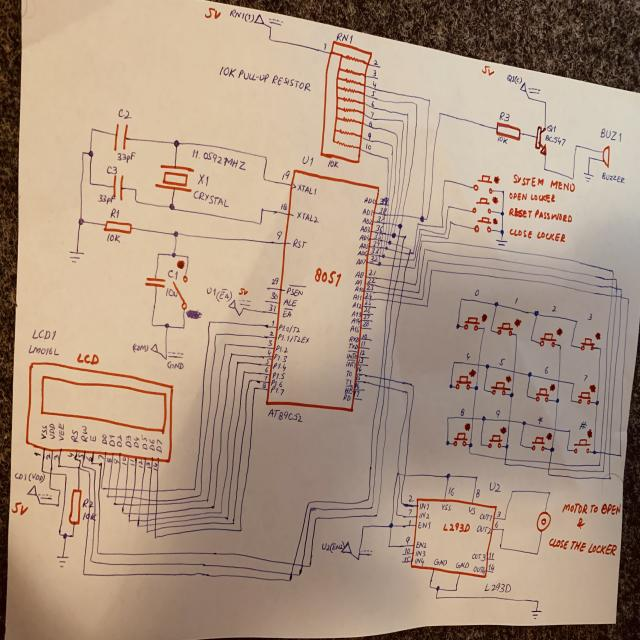capacitor: (112, 122, 129, 151), (112, 174, 124, 201), (144, 275, 166, 289)
crossover: (470, 415, 476, 422), (507, 417, 512, 425), (476, 361, 481, 368), (553, 426, 557, 434), (291, 561, 296, 567), (289, 571, 294, 577), (512, 368, 516, 375), (399, 293, 404, 298), (557, 378, 561, 384), (403, 472, 407, 478), (382, 384, 386, 390), (389, 277, 393, 283), (402, 279, 406, 285), (399, 256, 403, 262), (620, 294, 624, 300), (610, 284, 614, 290), (603, 450, 607, 456), (398, 470, 401, 477), (138, 502, 142, 507), (548, 460, 552, 465), (503, 457, 508, 461), (387, 385, 391, 390), (395, 242, 399, 247), (392, 256, 397, 260), (404, 264, 408, 269), (391, 263, 395, 268), (49, 471, 53, 476), (300, 563, 304, 568), (608, 451, 611, 457), (383, 376, 386, 382), (391, 298, 394, 304), (386, 297, 389, 303), (395, 278, 398, 284), (615, 286, 618, 292), (132, 488, 136, 492), (124, 487, 128, 491), (147, 502, 151, 506), (146, 512, 150, 516), (128, 512, 132, 516), (154, 511, 158, 515), (547, 467, 551, 471), (388, 378, 392, 382), (400, 288, 404, 292), (394, 249, 398, 253), (398, 264, 402, 268), (140, 488, 143, 493), (107, 486, 110, 491), (378, 383, 381, 388), (399, 300, 402, 305), (407, 257, 410, 262), (610, 293, 613, 298), (599, 450, 602, 455), (156, 489, 159, 493), (148, 489, 151, 493), (115, 487, 118, 491), (131, 495, 134, 499), (124, 495, 127, 499), (114, 494, 117, 498), (148, 498, 151, 502), (154, 517, 157, 521), (137, 518, 140, 522), (146, 523, 149, 527), (154, 522, 157, 526), (130, 503, 133, 507), (122, 502, 125, 506), (155, 498, 158, 502), (379, 376, 382, 380), (387, 292, 390, 296), (392, 292, 395, 296), (393, 286, 396, 290), (388, 286, 391, 290), (401, 244, 404, 248), (401, 250, 404, 254), (615, 294, 618, 298), (611, 277, 614, 281), (393, 213, 396, 217), (389, 213, 392, 217), (382, 221, 385, 225), (378, 254, 381, 258), (140, 496, 142, 501), (155, 503, 158, 506), (408, 252, 411, 255), (138, 512, 140, 516), (146, 518, 148, 522), (154, 528, 156, 532), (402, 214, 404, 218), (384, 213, 386, 217), (388, 222, 390, 226), (392, 222, 394, 226), (384, 232, 386, 236), (380, 238, 382, 242), (380, 246, 382, 250), (396, 214, 399, 216), (394, 223, 396, 226), (389, 233, 391, 236), (387, 233, 389, 236), (386, 214, 388, 216), (384, 204, 386, 206), (386, 222, 387, 226), (384, 239, 385, 243), (383, 246, 384, 250), (386, 240, 387, 243)
ground: (55, 554, 70, 570), (68, 250, 85, 263), (583, 172, 594, 183), (530, 609, 541, 619), (495, 238, 508, 246)
junction: (78, 216, 85, 226), (172, 230, 179, 239), (170, 250, 177, 259), (173, 139, 180, 148), (163, 322, 170, 330), (169, 202, 175, 211), (549, 446, 555, 454), (62, 532, 68, 540), (484, 363, 490, 370), (257, 220, 263, 227), (388, 522, 394, 529), (155, 251, 161, 258), (542, 166, 548, 173), (546, 489, 552, 496), (88, 150, 94, 157), (527, 370, 532, 378), (81, 570, 86, 578), (445, 439, 450, 447), (455, 322, 460, 330), (504, 442, 509, 450), (493, 301, 499, 307), (555, 397, 560, 404), (260, 206, 265, 213), (90, 126, 95, 133), (181, 324, 186, 331), (150, 321, 155, 328), (238, 526, 243, 533), (571, 380, 576, 387), (574, 318, 579, 325), (435, 585, 440, 592), (248, 377, 253, 384), (574, 142, 578, 150), (442, 178, 447, 184), (534, 310, 539, 316), (498, 544, 503, 550), (88, 180, 93, 186), (133, 186, 138, 192), (459, 296, 464, 302), (434, 594, 439, 600), (153, 534, 158, 540), (500, 527, 505, 533), (446, 473, 451, 479), (468, 442, 473, 448), (509, 392, 514, 398), (391, 232, 396, 238), (423, 246, 428, 252), (252, 386, 257, 392), (262, 175, 266, 182), (264, 154, 268, 161), (482, 415, 486, 422), (438, 110, 442, 117), (474, 474, 478, 481), (595, 399, 599, 406), (522, 419, 526, 426), (420, 215, 424, 222), (592, 450, 597, 455), (105, 494, 110, 499), (500, 211, 505, 216), (297, 572, 302, 577), (535, 550, 539, 556), (361, 524, 365, 530), (134, 198, 138, 204), (268, 36, 272, 42), (588, 155, 592, 161), (446, 415, 450, 421), (454, 586, 458, 592), (618, 452, 622, 458), (510, 488, 514, 494), (121, 509, 125, 515), (230, 351, 234, 357), (568, 428, 572, 434), (536, 598, 540, 604), (310, 506, 314, 512), (525, 393, 529, 399), (500, 229, 504, 235), (447, 204, 451, 210), (394, 132, 398, 138), (225, 515, 229, 521), (99, 461, 103, 467), (308, 563, 312, 569), (398, 223, 402, 229), (474, 385, 478, 391), (449, 383, 453, 389), (186, 254, 190, 260), (527, 95, 531, 101), (269, 25, 273, 31), (543, 100, 547, 105), (242, 370, 246, 375), (626, 297, 630, 302), (452, 360, 456, 365), (610, 268, 614, 273), (374, 512, 378, 517), (370, 504, 374, 509), (558, 343, 562, 348), (619, 287, 623, 292), (501, 189, 505, 194), (401, 119, 405, 124), (211, 504, 215, 509), (64, 472, 68, 477), (58, 488, 62, 493), (403, 234, 407, 239), (482, 326, 486, 331), (482, 387, 486, 392), (70, 533, 74, 538), (519, 442, 522, 448), (515, 332, 518, 338), (570, 342, 573, 348), (96, 550, 99, 556), (388, 240, 391, 246), (388, 544, 392, 548), (608, 476, 612, 480), (136, 524, 140, 528), (112, 502, 116, 506), (127, 518, 131, 522), (238, 313, 242, 317), (411, 383, 415, 387), (405, 390, 409, 394), (428, 584, 432, 588), (314, 516, 318, 520), (566, 448, 570, 452), (530, 338, 534, 342), (614, 278, 618, 282), (414, 102, 418, 106), (390, 144, 394, 148), (81, 150, 85, 154), (231, 521, 235, 525), (48, 486, 52, 490), (73, 457, 77, 461), (40, 469, 44, 473), (288, 578, 292, 582), (164, 356, 168, 360), (193, 487, 196, 492), (237, 360, 240, 365), (357, 556, 360, 561), (307, 500, 310, 505), (89, 558, 92, 563), (206, 498, 209, 503), (38, 501, 41, 506), (489, 328, 492, 333), (571, 176, 574, 181), (408, 248, 412, 251), (547, 472, 550, 476), (146, 530, 149, 534), (224, 342, 227, 346), (215, 332, 218, 336), (208, 320, 211, 324), (242, 306, 245, 310), (400, 501, 403, 505), (598, 463, 601, 467), (367, 497, 370, 501), (468, 451, 471, 455), (570, 398, 573, 402), (599, 347, 602, 351), (449, 220, 452, 224), (428, 98, 431, 102), (406, 112, 409, 116), (386, 156, 389, 160), (199, 493, 202, 497), (220, 510, 223, 514), (57, 502, 60, 506), (87, 470, 90, 474), (90, 462, 94, 465), (57, 464, 60, 468), (425, 217, 428, 221), (378, 262, 381, 266), (382, 254, 385, 258), (385, 246, 388, 250), (441, 225, 444, 229), (431, 268, 434, 272), (414, 282, 417, 286), (417, 290, 420, 294), (412, 258, 415, 262), (413, 266, 416, 270), (58, 532, 61, 536), (100, 486, 102, 491), (480, 442, 482, 447), (79, 466, 81, 471), (395, 513, 398, 516), (82, 464, 85, 467), (421, 233, 424, 236), (443, 232, 446, 235), (504, 517, 506, 521), (504, 462, 506, 466), (602, 469, 604, 473), (94, 468, 96, 472), (77, 466, 79, 470), (417, 222, 419, 226), (427, 258, 429, 262), (421, 297, 423, 301), (426, 304, 428, 308), (412, 251, 414, 255), (79, 459, 81, 462), (447, 237, 449, 240), (396, 472, 398, 474), (419, 228, 421, 230), (421, 239, 422, 243)
resistor: (68, 488, 82, 526), (496, 121, 521, 141), (103, 220, 132, 234)
switch: (168, 272, 190, 310), (472, 175, 493, 194), (471, 197, 492, 214), (572, 438, 592, 454), (490, 381, 511, 396), (474, 216, 492, 233), (455, 374, 472, 390), (539, 332, 557, 347), (463, 316, 480, 331), (531, 435, 546, 452), (496, 322, 514, 336), (487, 434, 503, 449), (452, 432, 468, 447), (535, 387, 550, 402), (578, 389, 591, 406), (580, 337, 595, 351)
terminal: (340, 540, 352, 554), (26, 484, 38, 496), (253, 14, 264, 25), (228, 299, 236, 309), (150, 343, 158, 353), (520, 81, 526, 92)
text: (219, 64, 311, 92), (549, 537, 617, 557), (512, 173, 576, 193), (192, 149, 246, 171), (508, 206, 572, 224), (509, 227, 566, 243), (562, 502, 621, 516), (193, 189, 230, 208), (508, 191, 556, 203), (313, 268, 342, 287), (267, 408, 303, 422), (27, 343, 60, 358), (207, 286, 233, 303), (600, 126, 624, 142), (295, 209, 320, 224), (229, 8, 254, 23), (14, 471, 45, 483), (31, 328, 57, 342), (277, 333, 310, 344), (76, 352, 100, 366), (442, 521, 470, 533), (601, 171, 626, 184), (321, 540, 345, 553), (484, 582, 511, 593), (296, 182, 317, 196), (286, 283, 306, 297), (116, 151, 136, 164), (545, 134, 566, 146), (12, 501, 28, 516), (204, 7, 221, 20), (98, 193, 116, 205), (278, 323, 301, 332), (336, 32, 353, 44), (118, 107, 133, 120), (132, 342, 149, 353), (488, 480, 502, 493), (292, 238, 307, 250), (507, 73, 522, 85), (167, 360, 184, 370), (197, 173, 209, 187), (481, 64, 495, 76), (39, 423, 48, 440), (302, 154, 314, 166), (80, 425, 88, 443), (167, 268, 179, 280), (476, 525, 492, 534), (82, 512, 98, 521), (472, 552, 486, 562), (479, 512, 493, 522), (272, 362, 286, 372), (270, 386, 284, 396), (106, 233, 120, 243), (166, 287, 178, 298), (499, 110, 510, 122), (106, 164, 118, 175), (418, 520, 431, 530), (70, 429, 79, 443), (274, 353, 288, 362), (283, 299, 298, 307), (455, 561, 470, 569), (473, 565, 485, 575), (576, 517, 586, 529), (327, 159, 339, 169), (110, 207, 120, 219), (82, 498, 94, 508), (141, 434, 148, 451), (58, 422, 64, 441), (156, 438, 163, 454), (433, 558, 447, 566), (272, 372, 286, 380), (282, 308, 293, 318), (275, 345, 288, 353), (270, 379, 283, 387), (49, 423, 55, 440), (281, 170, 290, 181), (345, 359, 356, 368), (346, 350, 357, 359), (497, 135, 508, 144), (125, 434, 132, 448), (148, 438, 155, 452), (415, 540, 427, 548), (238, 287, 248, 296), (419, 502, 429, 511), (546, 124, 556, 133), (275, 229, 283, 240), (468, 505, 476, 516), (579, 420, 587, 431), (355, 258, 366, 266), (349, 325, 360, 333), (362, 208, 373, 216), (362, 217, 373, 225), (359, 234, 370, 242), (108, 435, 115, 447), (116, 434, 122, 448), (133, 436, 140, 448), (364, 197, 376, 204), (343, 392, 352, 401), (271, 276, 279, 286), (414, 558, 424, 566), (348, 342, 358, 350), (360, 225, 370, 233), (350, 317, 360, 325), (101, 434, 108, 445), (415, 550, 426, 557), (418, 512, 429, 519), (348, 336, 359, 343), (270, 291, 278, 300), (375, 224, 383, 233), (358, 243, 370, 249), (280, 202, 287, 212), (498, 357, 505, 367), (448, 486, 455, 496), (442, 504, 452, 511), (352, 294, 362, 301), (354, 271, 364, 278), (344, 385, 354, 392), (357, 250, 367, 257), (379, 197, 389, 204), (351, 311, 362, 317), (268, 304, 276, 312), (364, 292, 372, 300), (370, 255, 378, 263), (364, 298, 372, 306), (494, 409, 501, 418), (367, 277, 376, 284), (373, 232, 382, 239), (366, 132, 372, 142), (586, 312, 592, 322), (354, 286, 364, 292), (370, 248, 380, 254), (352, 302, 362, 308), (488, 563, 495, 571), (408, 494, 415, 502), (366, 284, 374, 291), (368, 269, 376, 276), (372, 240, 380, 247), (379, 207, 387, 214), (363, 306, 371, 313), (537, 416, 543, 425), (152, 462, 158, 471), (376, 216, 385, 222), (404, 556, 411, 563), (362, 320, 369, 327), (90, 434, 96, 442), (54, 454, 60, 462), (129, 458, 135, 466), (366, 142, 372, 150), (360, 340, 366, 348), (466, 351, 471, 360), (372, 80, 377, 89), (583, 373, 588, 382), (460, 408, 465, 417), (138, 459, 143, 468), (405, 536, 410, 545), (551, 305, 557, 312), (78, 452, 84, 459), (85, 455, 92, 461), (113, 458, 120, 464), (404, 547, 410, 554), (355, 280, 362, 286), (346, 370, 352, 377), (346, 378, 352, 385), (354, 382, 360, 389), (356, 374, 362, 381), (356, 366, 362, 373), (265, 358, 272, 364), (363, 314, 370, 320), (476, 488, 480, 498), (323, 41, 327, 51), (372, 69, 377, 77), (474, 288, 479, 296), (544, 366, 549, 374), (46, 453, 51, 461), (122, 456, 126, 466), (146, 461, 151, 469), (494, 520, 499, 528), (358, 357, 363, 365), (370, 90, 376, 96), (98, 454, 104, 460), (106, 457, 112, 463), (373, 59, 379, 65), (359, 350, 365, 356), (67, 452, 74, 457), (354, 390, 359, 397), (267, 339, 272, 346), (514, 297, 518, 305), (34, 452, 42, 456), (271, 319, 275, 327), (408, 508, 412, 516), (368, 120, 372, 128), (496, 511, 501, 517), (489, 552, 494, 558), (269, 330, 274, 336), (371, 100, 375, 107), (370, 111, 374, 118), (408, 519, 412, 526), (268, 349, 272, 356), (362, 334, 367, 339), (262, 382, 266, 388), (264, 367, 268, 372), (264, 375, 267, 381)
transistor: (534, 125, 547, 156)
